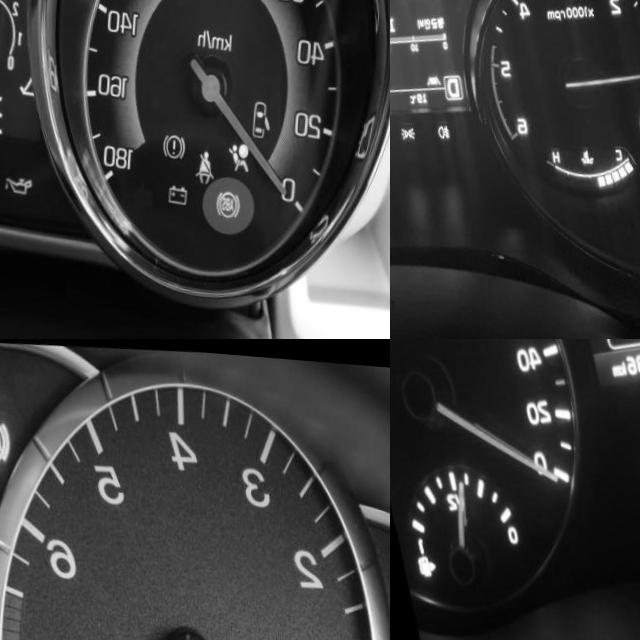Doors: (253, 93, 272, 133)
FrontFogLight: (438, 116, 452, 134)
SideLamp: (401, 119, 417, 136)
